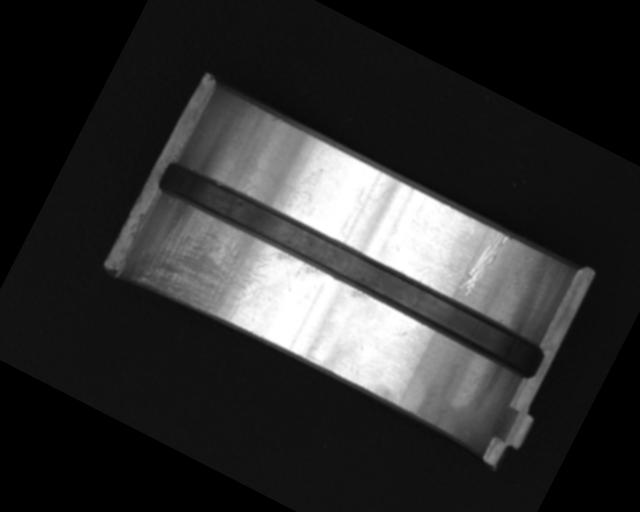gap: (153, 156, 548, 384)
nick: (455, 225, 512, 303)
scratch: (127, 194, 293, 342)
